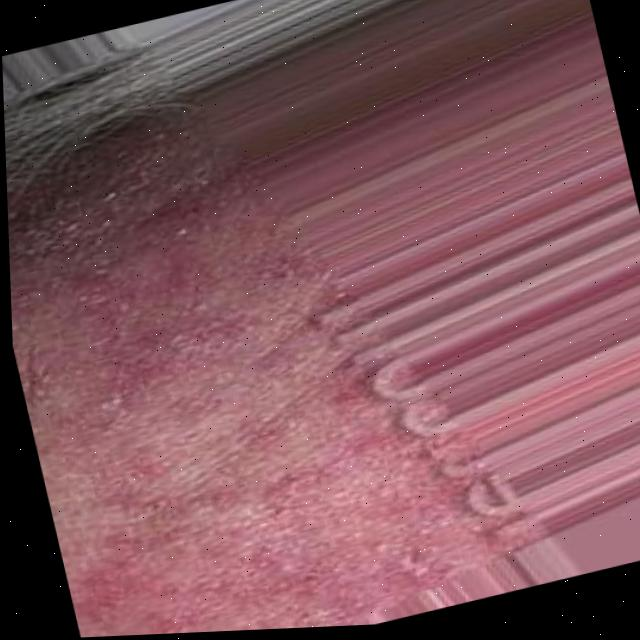Rosacea: (4, 100, 493, 640)
